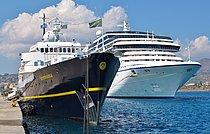Ship: (11, 10, 125, 127), (82, 27, 207, 106)
